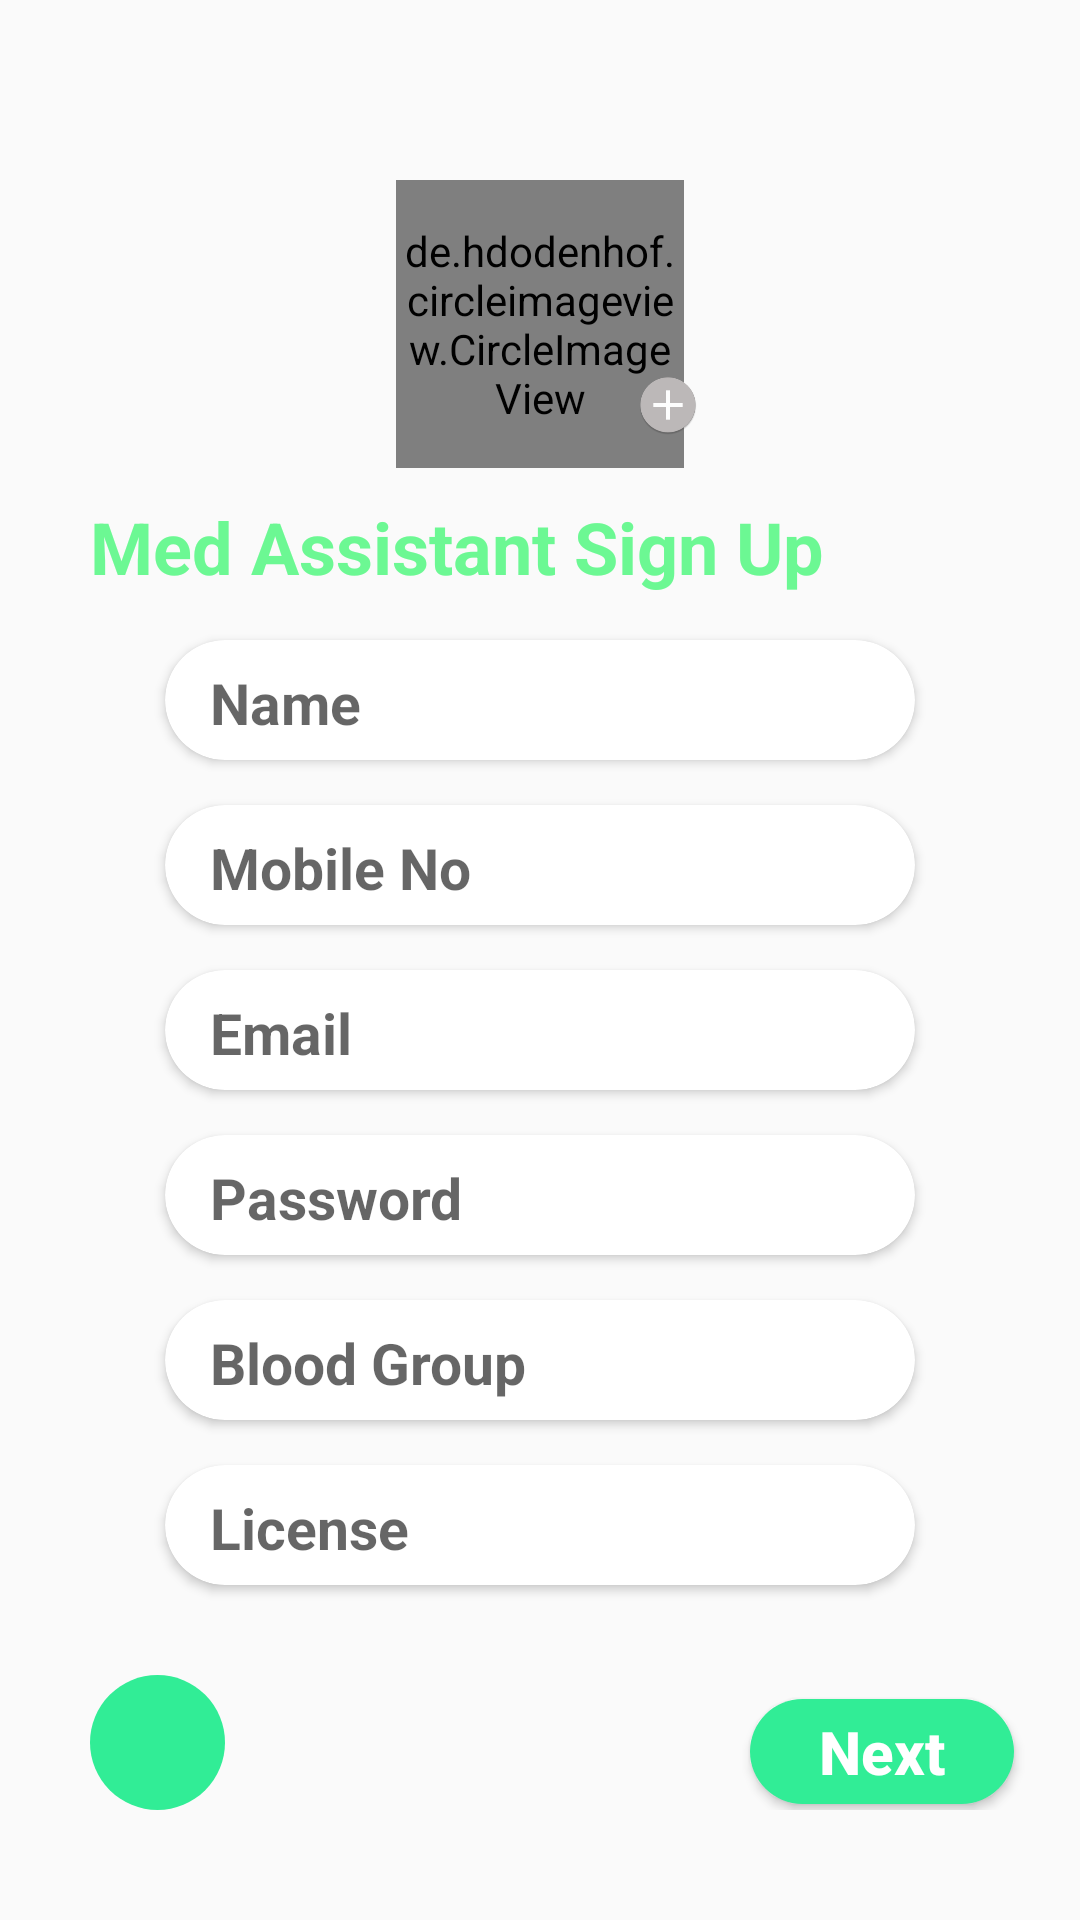

Named icons in this screenshot (1080 x 1920) and their centers, (x,y):
add: (668,405)
